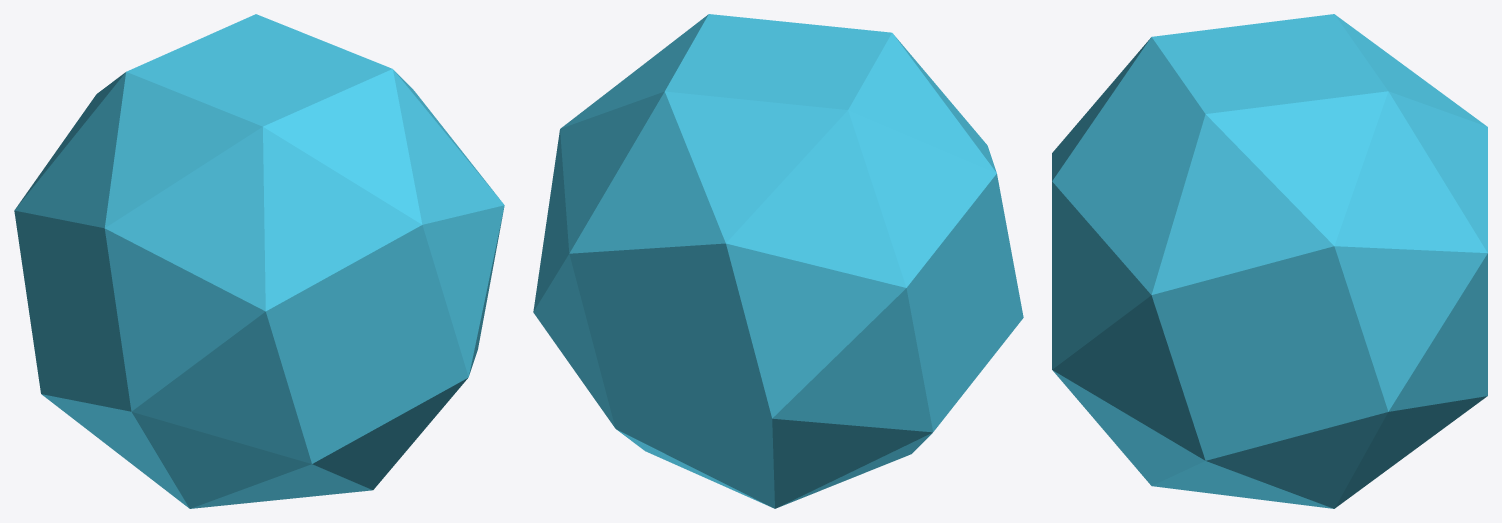
File: fractalsnubcube4-0.glb
3 renders of one model, left to right at view 1: azimuth 30°, elevation 25°; view 2: azimuth 150°, elevation 25°; view 3: azimuth 270°, elevation 25°, orthographic.
Size of the model in its own units: 7.24 by 7.24 by 7.24.
